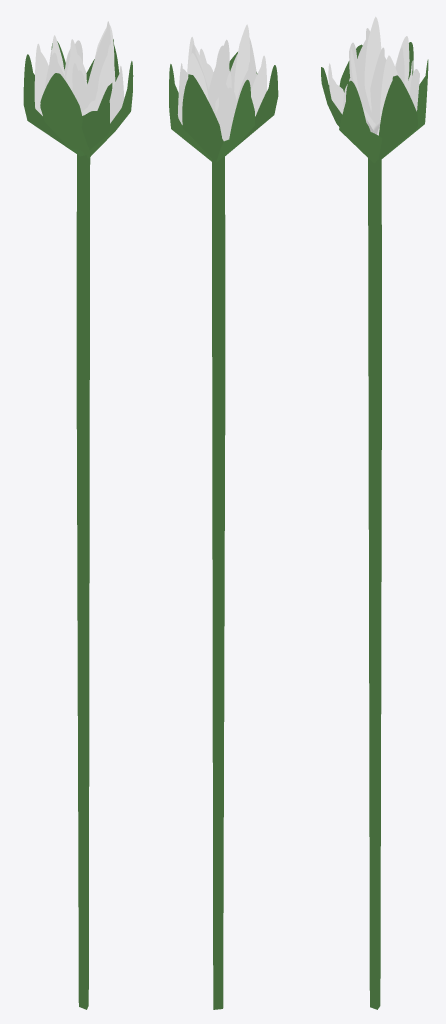
Rendered from PT_Waterlily_02.fbx.
3 views of the same model, side by side, from view 1: azimuth 30°, elevation 25°; view 2: azimuth 210°, elevation 25°; view 3: azimuth 270°, elevation 25° (orthographic).
Visible parts, largest first — view 1: PT_WaterLily_02_LOD0; view 2: PT_WaterLily_02_LOD0; view 3: PT_WaterLily_02_LOD0.
Boxes of the visible parts, bbox=[...] form: PT_WaterLily_02_LOD0: bbox=[23, 21, 133, 1009]; PT_WaterLily_02_LOD0: bbox=[169, 24, 278, 1009]; PT_WaterLily_02_LOD0: bbox=[321, 16, 428, 1009].
Size of what is drawn, in the model's own units: 15.73 by 136 by 14.47.
